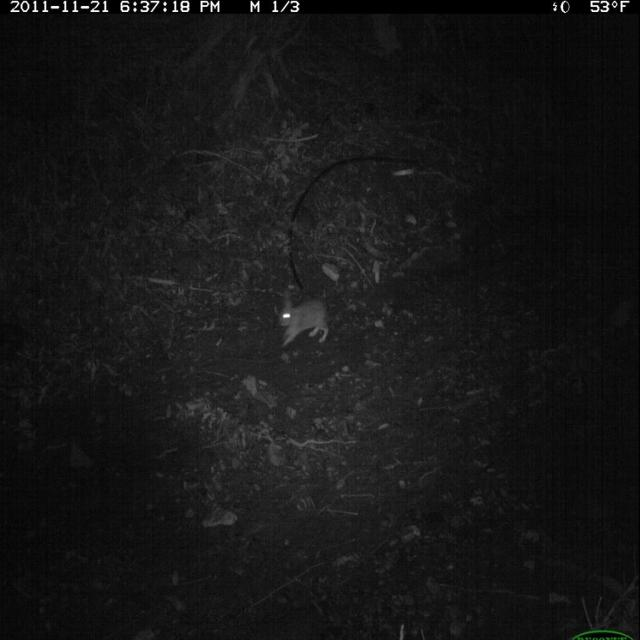rabbit: (272, 290, 337, 354)
